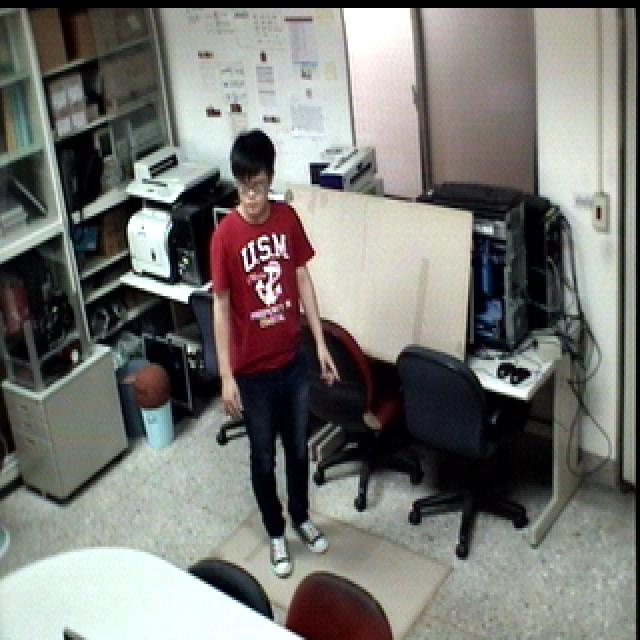stand: (211, 130, 347, 583)
